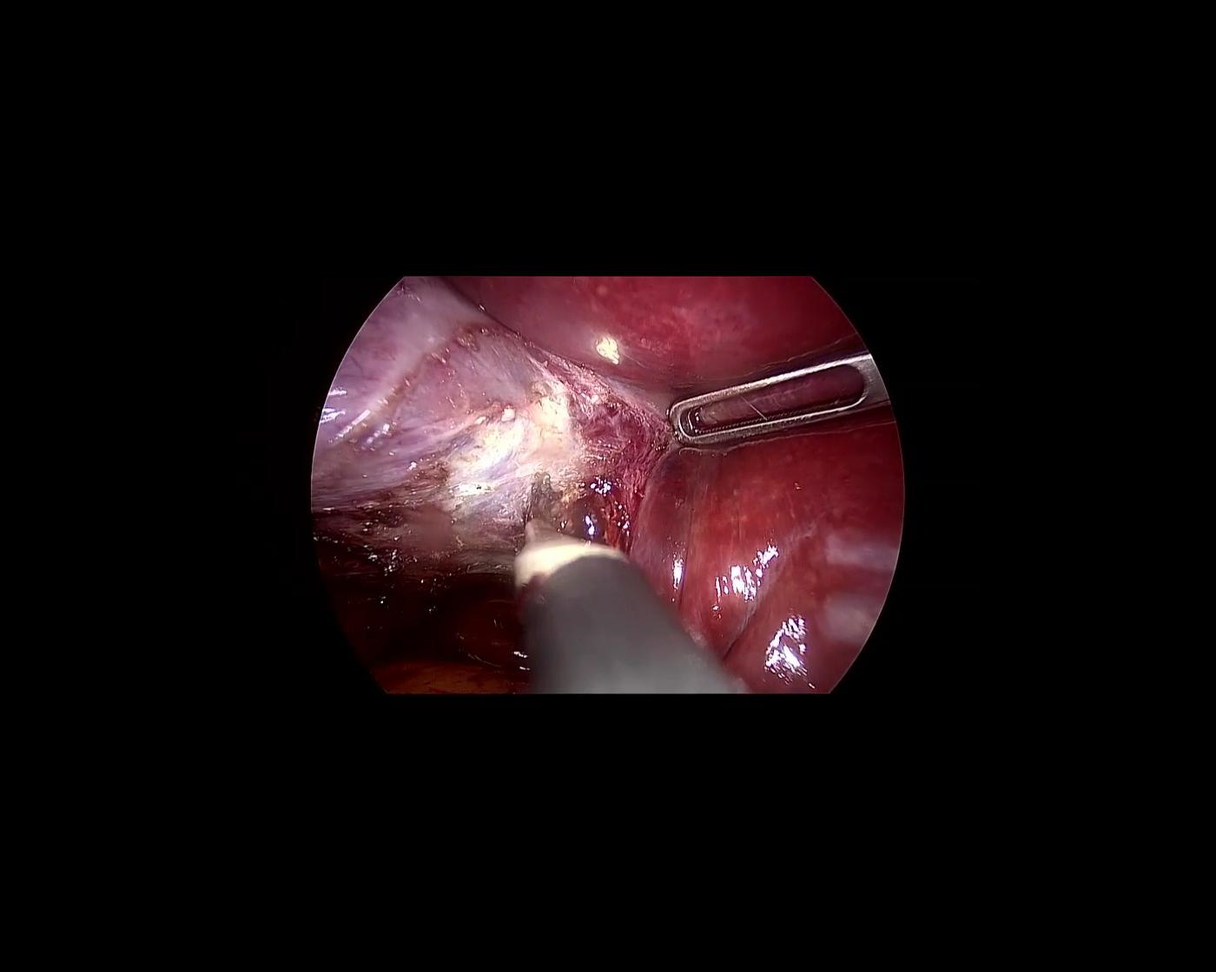Cautery: (510, 512, 744, 692)
Forceps: (657, 348, 893, 452)
Gallbladder: (275, 257, 567, 617)
Liver: (447, 111, 1007, 744)
